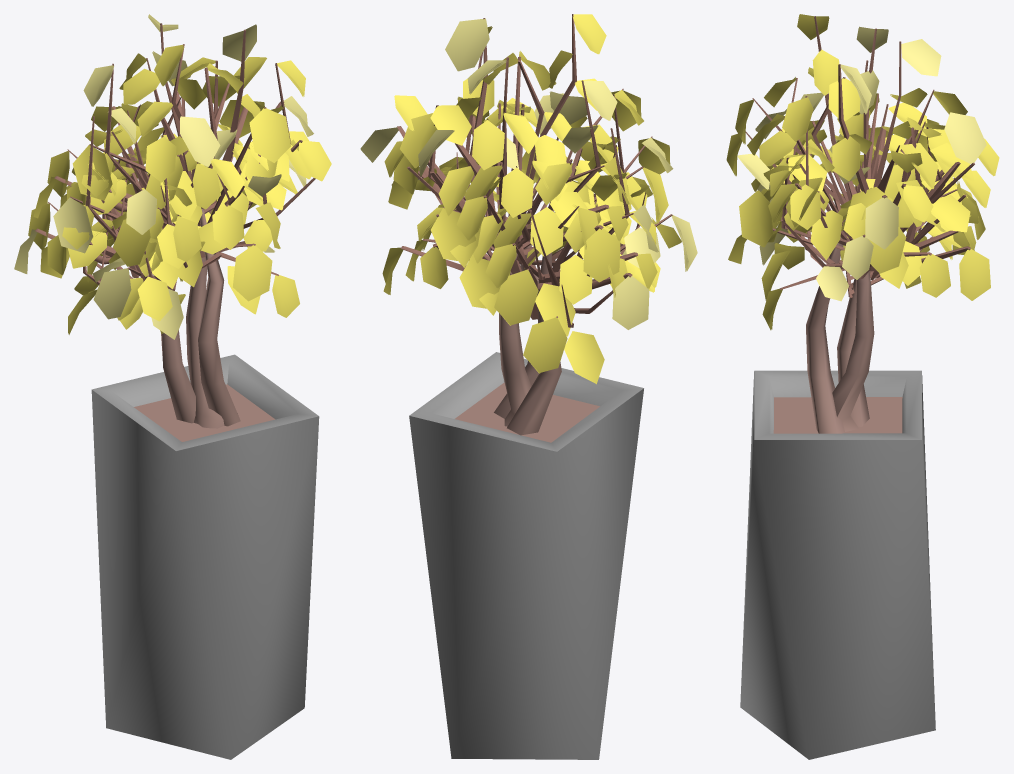
Rendered from flower_031.glb.
The picture shows the model from 3 angles, left to right: view 1: azimuth 30°, elevation 25°; view 2: azimuth 150°, elevation 25°; view 3: azimuth 270°, elevation 25°; orthographic projection. The views are drawn at different scales.
Parts seen in each view (by area): view 1: flower_031; view 2: flower_031; view 3: flower_031.
Boxes of the visible parts, left/top/right/bottom form: flower_031: left=14, top=14, right=331, bottom=759; flower_031: left=360, top=14, right=697, bottom=759; flower_031: left=726, top=14, right=999, bottom=759.
Size of the model in its own units: 0.581 by 1.34 by 0.4836.
Materials: 1 (1 with a texture image).
